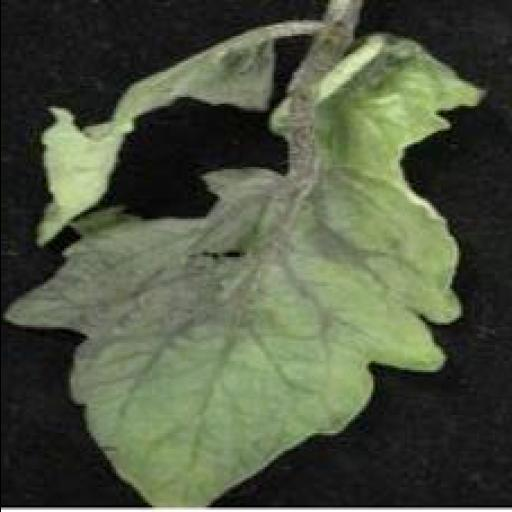Late Blight: (0, 29, 481, 505)
